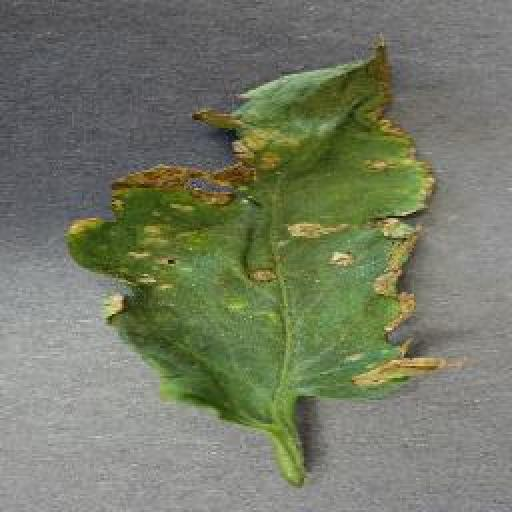Bacterial Spot: (58, 20, 456, 495)
